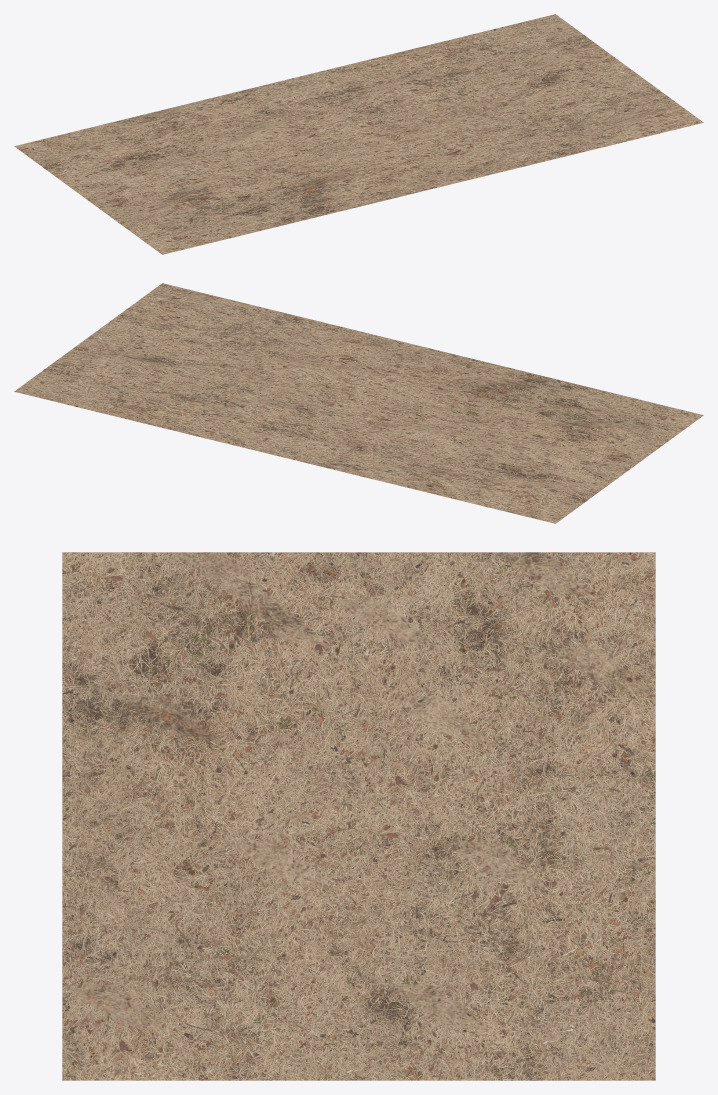
The model's file is Suelo_Zona.glb.
3 renders of one model, top to bottom at view 1: azimuth 30°, elevation 25°; view 2: azimuth 150°, elevation 25°; view 3: azimuth 270°, elevation 25°, orthographic. The views are drawn at different scales.
Visible parts, largest first — view 1: Plano; view 2: Plano; view 3: Plano.
Boxes of the visible parts, x1=… form: Plano: x1=14, y1=14, x2=703, y2=254; Plano: x1=14, y1=283, x2=703, y2=523; Plano: x1=62, y1=552, x2=655, y2=1080.
Bounding box in the file's own units: 80.25 × 0.7202 × 38.08.
1 material, 1 textured.
